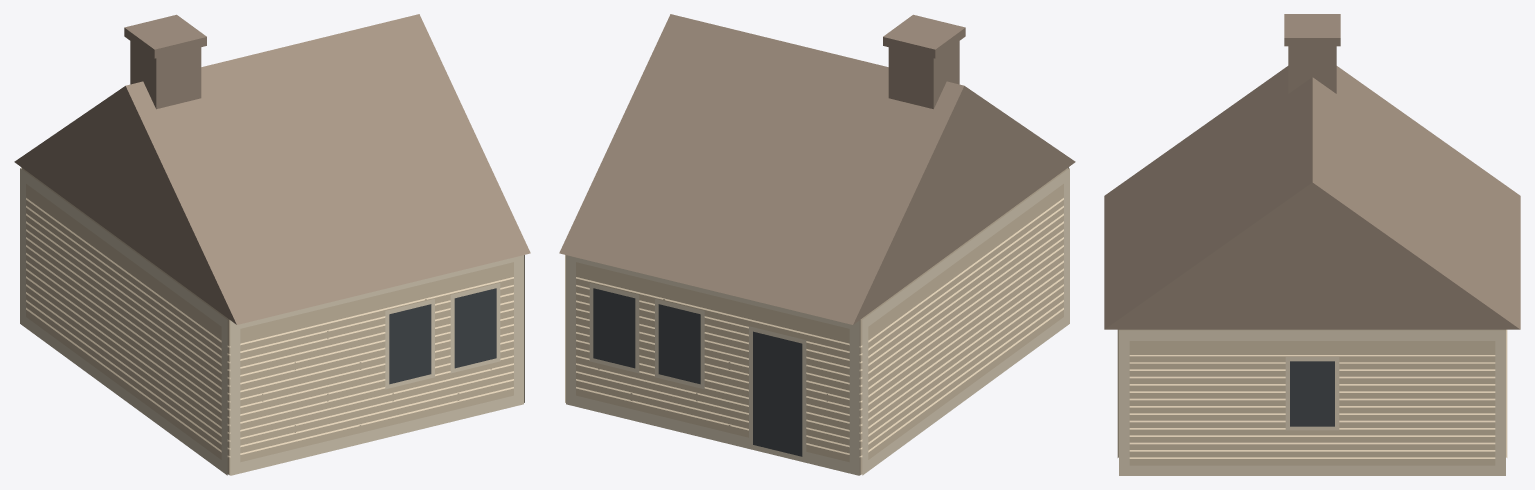
Rendered from recon_1835_north_d3_016__inferred_1835.glb.
3 views of the same model, side by side, from view 1: azimuth 30°, elevation 25°; view 2: azimuth 150°, elevation 25°; view 3: azimuth 270°, elevation 25° (orthographic). The views are drawn at different scales.
Visible parts, largest first — view 1: recon_1835_north_d3_016__inferred_1835; view 2: recon_1835_north_d3_016__inferred_1835; view 3: recon_1835_north_d3_016__inferred_1835.
Part boxes in pixels (x1=…): recon_1835_north_d3_016__inferred_1835: x1=14, y1=14, x2=530, y2=475; recon_1835_north_d3_016__inferred_1835: x1=559, y1=14, x2=1075, y2=475; recon_1835_north_d3_016__inferred_1835: x1=1104, y1=14, x2=1520, y2=475.
Bounding box in the file's own units: 5.57 × 6.37 × 7.21.
